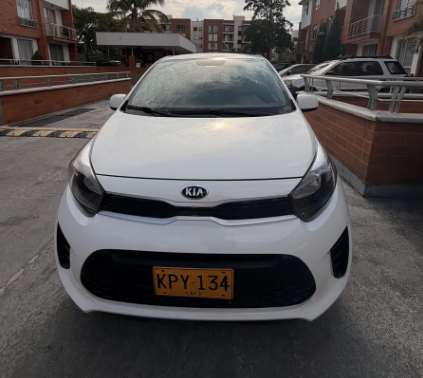placa: (152, 266, 235, 302)
